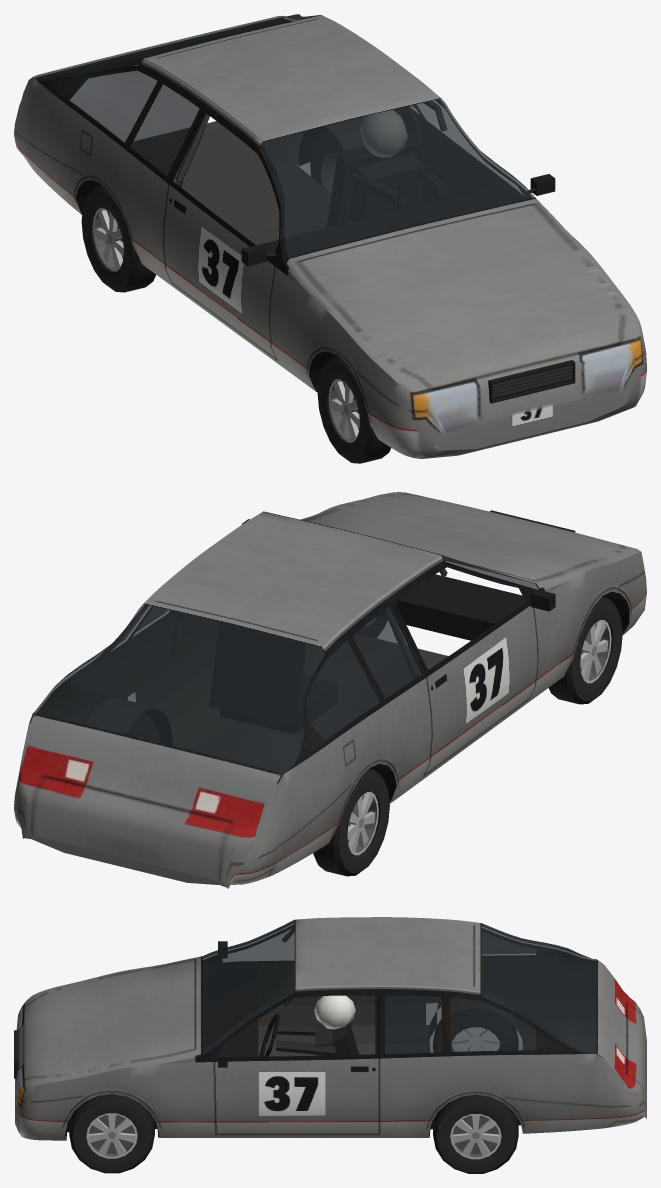
The picture shows the model from 3 angles, top to bottom: view 1: azimuth 30°, elevation 25°; view 2: azimuth 150°, elevation 25°; view 3: azimuth 270°, elevation 25°; orthographic projection. The views are drawn at different scales.
Parts seen in each view (by area): view 1: body, wheel_rr, wheel_fr, wheel_rl; view 2: body, wheel_rr, wheel_fr, wheel_rl; view 3: body, wheel_fl, wheel_rl, wheel_rr.
Boxes of the visible parts, left/top/right/bottom form: body: left=14, top=14, right=646, bottom=458; wheel_rr: left=81, top=184, right=155, bottom=292; wheel_fr: left=317, top=356, right=390, bottom=463; wheel_rl: left=310, top=129, right=344, bottom=192; body: left=14, top=492, right=646, bottom=888; wheel_rr: left=313, top=768, right=389, bottom=876; wheel_fr: left=548, top=596, right=622, bottom=704; wheel_rl: left=127, top=713, right=160, bottom=742; body: left=14, top=917, right=646, bottom=1140; wheel_fl: left=69, top=1094, right=154, bottom=1173; wheel_rl: left=433, top=1094, right=518, bottom=1173; wheel_rr: left=433, top=1008, right=518, bottom=1051.
Size of the model in its own units: 1.98 by 1.4 by 4.54.
Materials: 2 (1 with a texture image).
